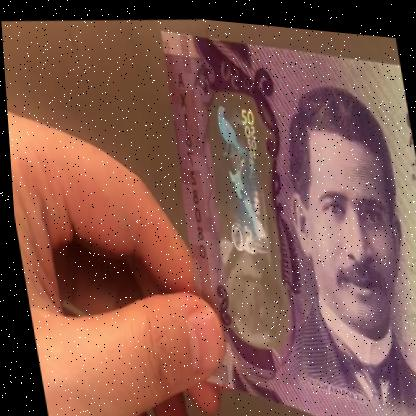50F: (198, 92, 292, 327)
